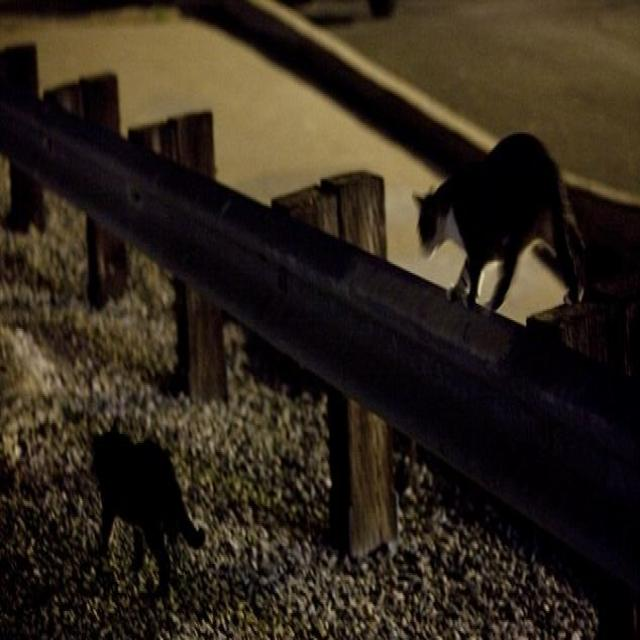Cat: (408, 135, 600, 348), (86, 420, 199, 597)
